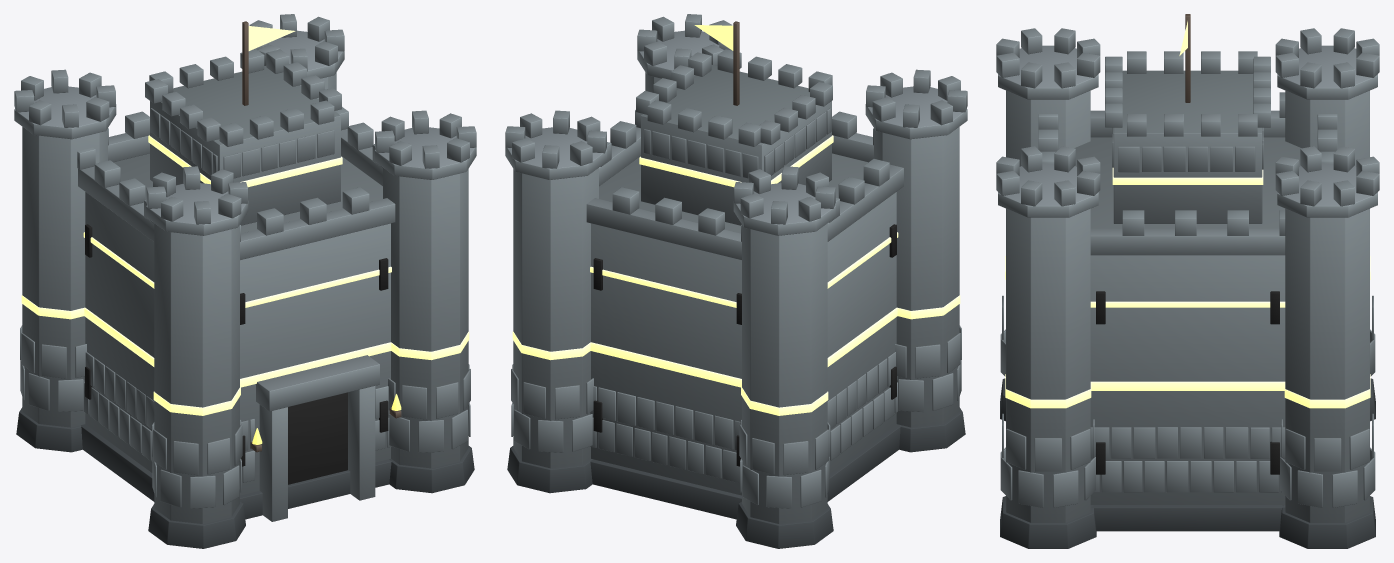
Rendered from castle_keep_b.glb.
3 renders of one model, left to right at view 1: azimuth 30°, elevation 25°; view 2: azimuth 150°, elevation 25°; view 3: azimuth 270°, elevation 25°, orthographic. The views are drawn at different scales.
Parts seen in each view (by area): view 1: castle_keep_b; view 2: castle_keep_b; view 3: castle_keep_b.
Part boxes in pixels (bbox=[...]): castle_keep_b: bbox=[14, 14, 476, 548]; castle_keep_b: bbox=[505, 14, 967, 548]; castle_keep_b: bbox=[996, 14, 1379, 548].
Size of the model in its own units: 8.78 by 11.5 by 8.78.
3 materials, 1 textured.
